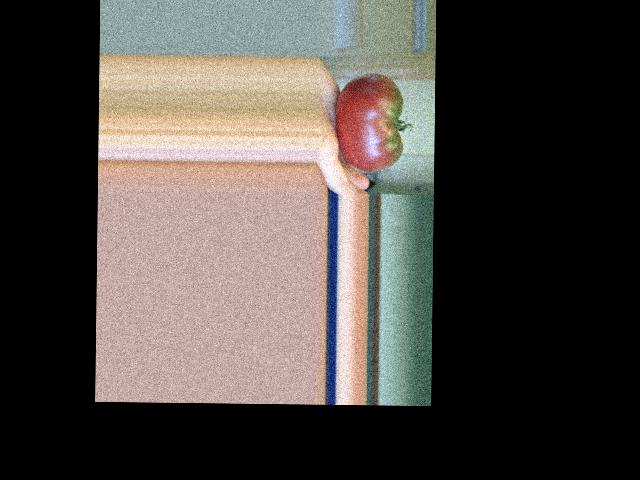tomato: (334, 72, 403, 172)
